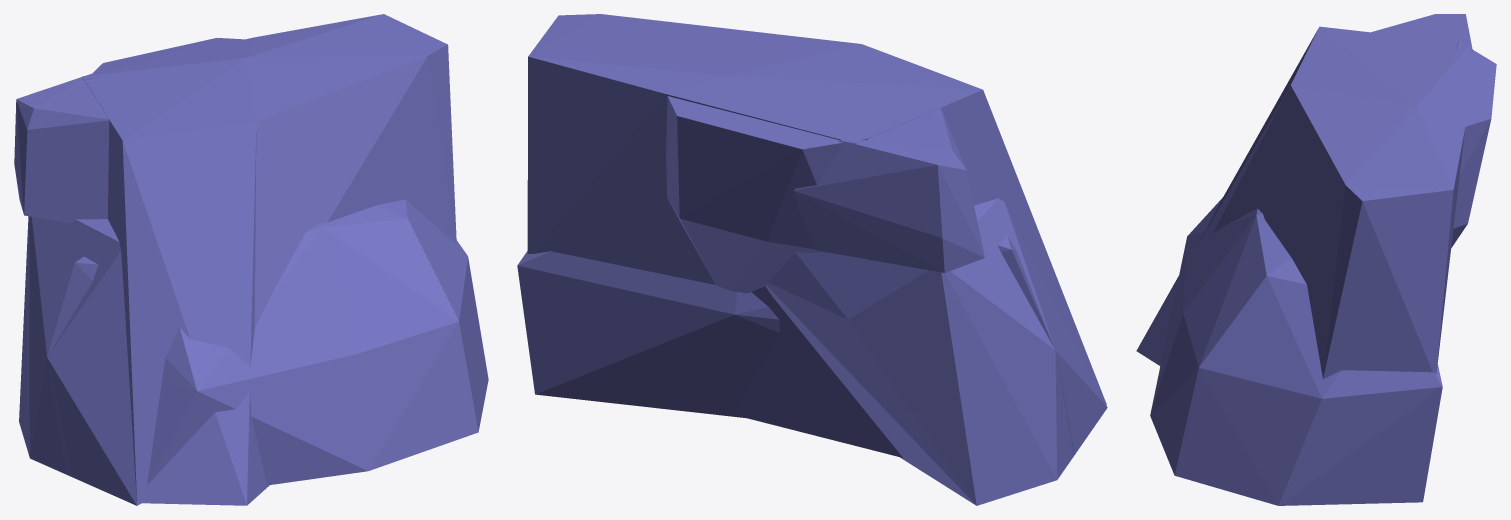
Rendered from Cliff_Sediment_03_Collider_Out_01.FBX.
3 views of the same model, side by side, from view 1: azimuth 30°, elevation 25°; view 2: azimuth 150°, elevation 25°; view 3: azimuth 270°, elevation 25° (orthographic). The views are drawn at different scales.
Visible parts, largest first — view 1: COLLIDER3, COLLIDER1, COLLIDER6, COLLIDER5, COLLIDER2, COLLIDER4; view 2: COLLIDER5, COLLIDER6, COLLIDER1, COLLIDER3, COLLIDER4, COLLIDER2; view 3: COLLIDER3, COLLIDER6, COLLIDER1, COLLIDER4, COLLIDER2.
Part boxes in pixels (x1,y1,x2,y2): COLLIDER3: (47, 199, 488, 485); COLLIDER1: (82, 37, 269, 505); COLLIDER6: (246, 14, 456, 328); COLLIDER5: (19, 216, 141, 505); COLLIDER2: (14, 73, 109, 223); COLLIDER4: (84, 38, 244, 82); COLLIDER5: (765, 198, 1107, 505); COLLIDER6: (527, 14, 860, 284); COLLIDER1: (665, 44, 1106, 457); COLLIDER3: (517, 235, 1077, 454); COLLIDER4: (666, 96, 867, 293); COLLIDER2: (793, 108, 984, 272); COLLIDER3: (1150, 197, 1442, 505); COLLIDER6: (1212, 85, 1465, 379); COLLIDER1: (1136, 26, 1471, 365); COLLIDER4: (1451, 41, 1496, 247); COLLIDER2: (1371, 14, 1472, 51).
Size of the model in its own units: 529 by 384 by 386.
